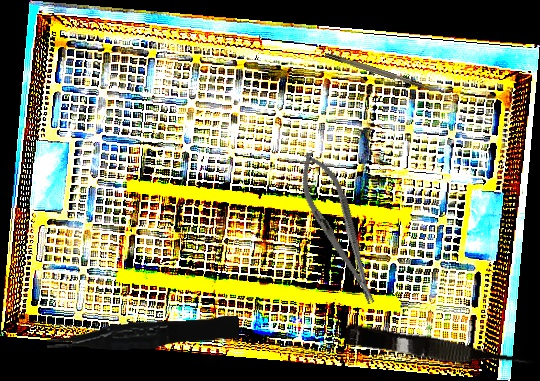Hook Surgical: (324, 51, 442, 95)
Micro Scissor: (341, 322, 539, 380)
Needle Holder: (288, 146, 390, 312)
Tissue Forceps: (46, 315, 240, 353)
